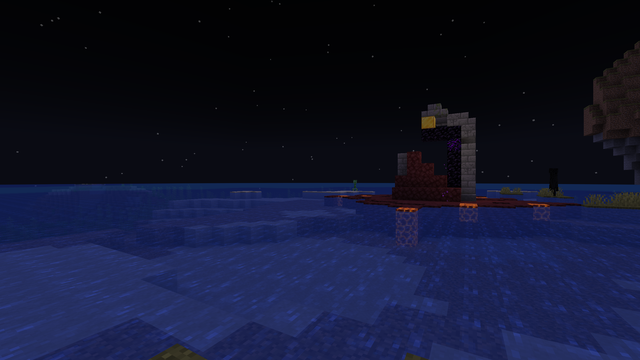creepers: (352, 179, 357, 190)
endermens: (548, 167, 557, 195)
